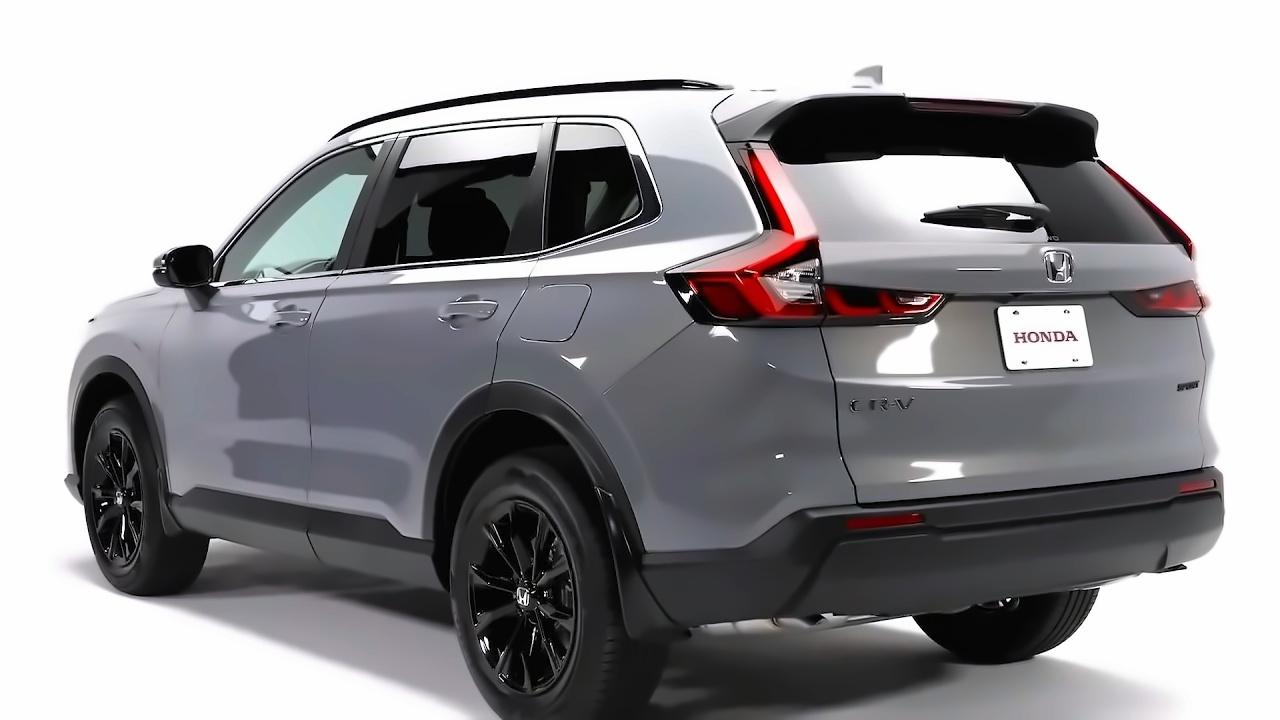Car boot: (729, 98, 1217, 509)
Fender - -F-L-: (88, 320, 184, 546)
Fender - -R-L-: (482, 240, 692, 455)
Front bumper: (60, 366, 103, 500)
Passenger-s door - -F-L-: (162, 112, 374, 524)
Passenger-s door - -R-L-: (330, 117, 560, 538)
Rear bumper: (603, 348, 1235, 642)
Rear light - -L-: (660, 134, 954, 333)
Rear light - -R-: (1076, 154, 1214, 328)
Side bumper - -L-: (150, 476, 454, 602)
Side mirror - -L-: (146, 234, 252, 297)
